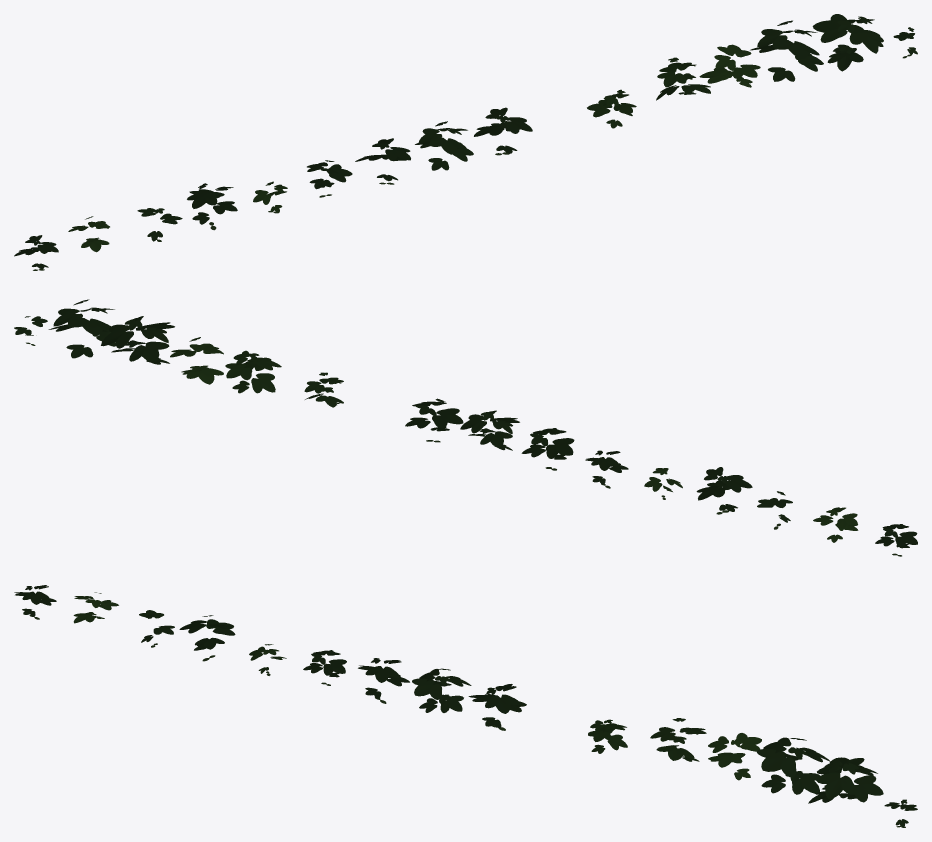
Rendered from ROW_00_SEG2_foliage.dae.
3 renders of one model, top to bottom at view 1: azimuth 30°, elevation 25°; view 2: azimuth 150°, elevation 25°; view 3: azimuth 330°, elevation 25°, orthographic.
Parts seen in each view (by area): view 1: ROW_00_SEG2_foliage; view 2: ROW_00_SEG2_foliage; view 3: ROW_00_SEG2_foliage.
Boxes of the visible parts, x1=… form: ROW_00_SEG2_foliage: x1=14, y1=14, x2=917, y2=270; ROW_00_SEG2_foliage: x1=14, y1=299, x2=917, y2=556; ROW_00_SEG2_foliage: x1=14, y1=585, x2=917, y2=827.
Bounding box in the file's own units: 4.77 × 0.372 × 0.291.
